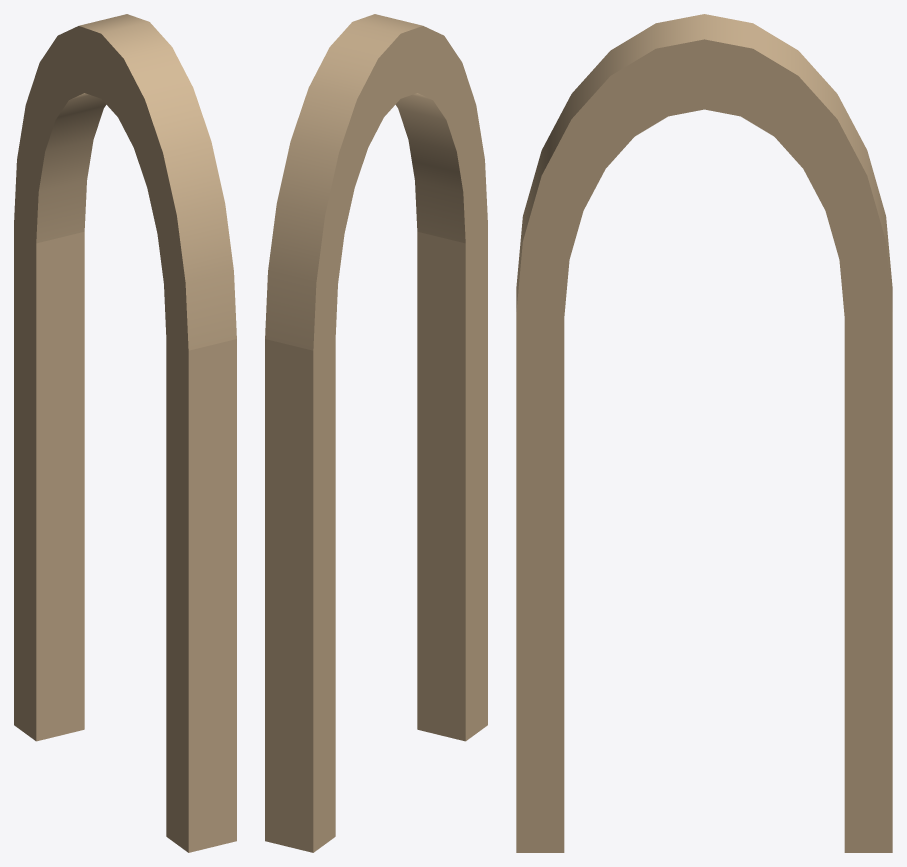
Rendered from Building Frame 9.fbx.
The picture shows the model from 3 angles, left to right: view 1: azimuth 30°, elevation 25°; view 2: azimuth 150°, elevation 25°; view 3: azimuth 270°, elevation 25°; orthographic projection. The views are drawn at different scales.
Visible parts, largest first — view 1: Building Frame 9; view 2: Building Frame 9; view 3: Building Frame 9.
Boxes of the visible parts, <box> form: Building Frame 9: <box>14,14,236,852</box>; Building Frame 9: <box>265,14,487,852</box>; Building Frame 9: <box>516,14,892,852</box>.
Size of the model in its own units: 0.05 by 0.746 by 0.3125.
